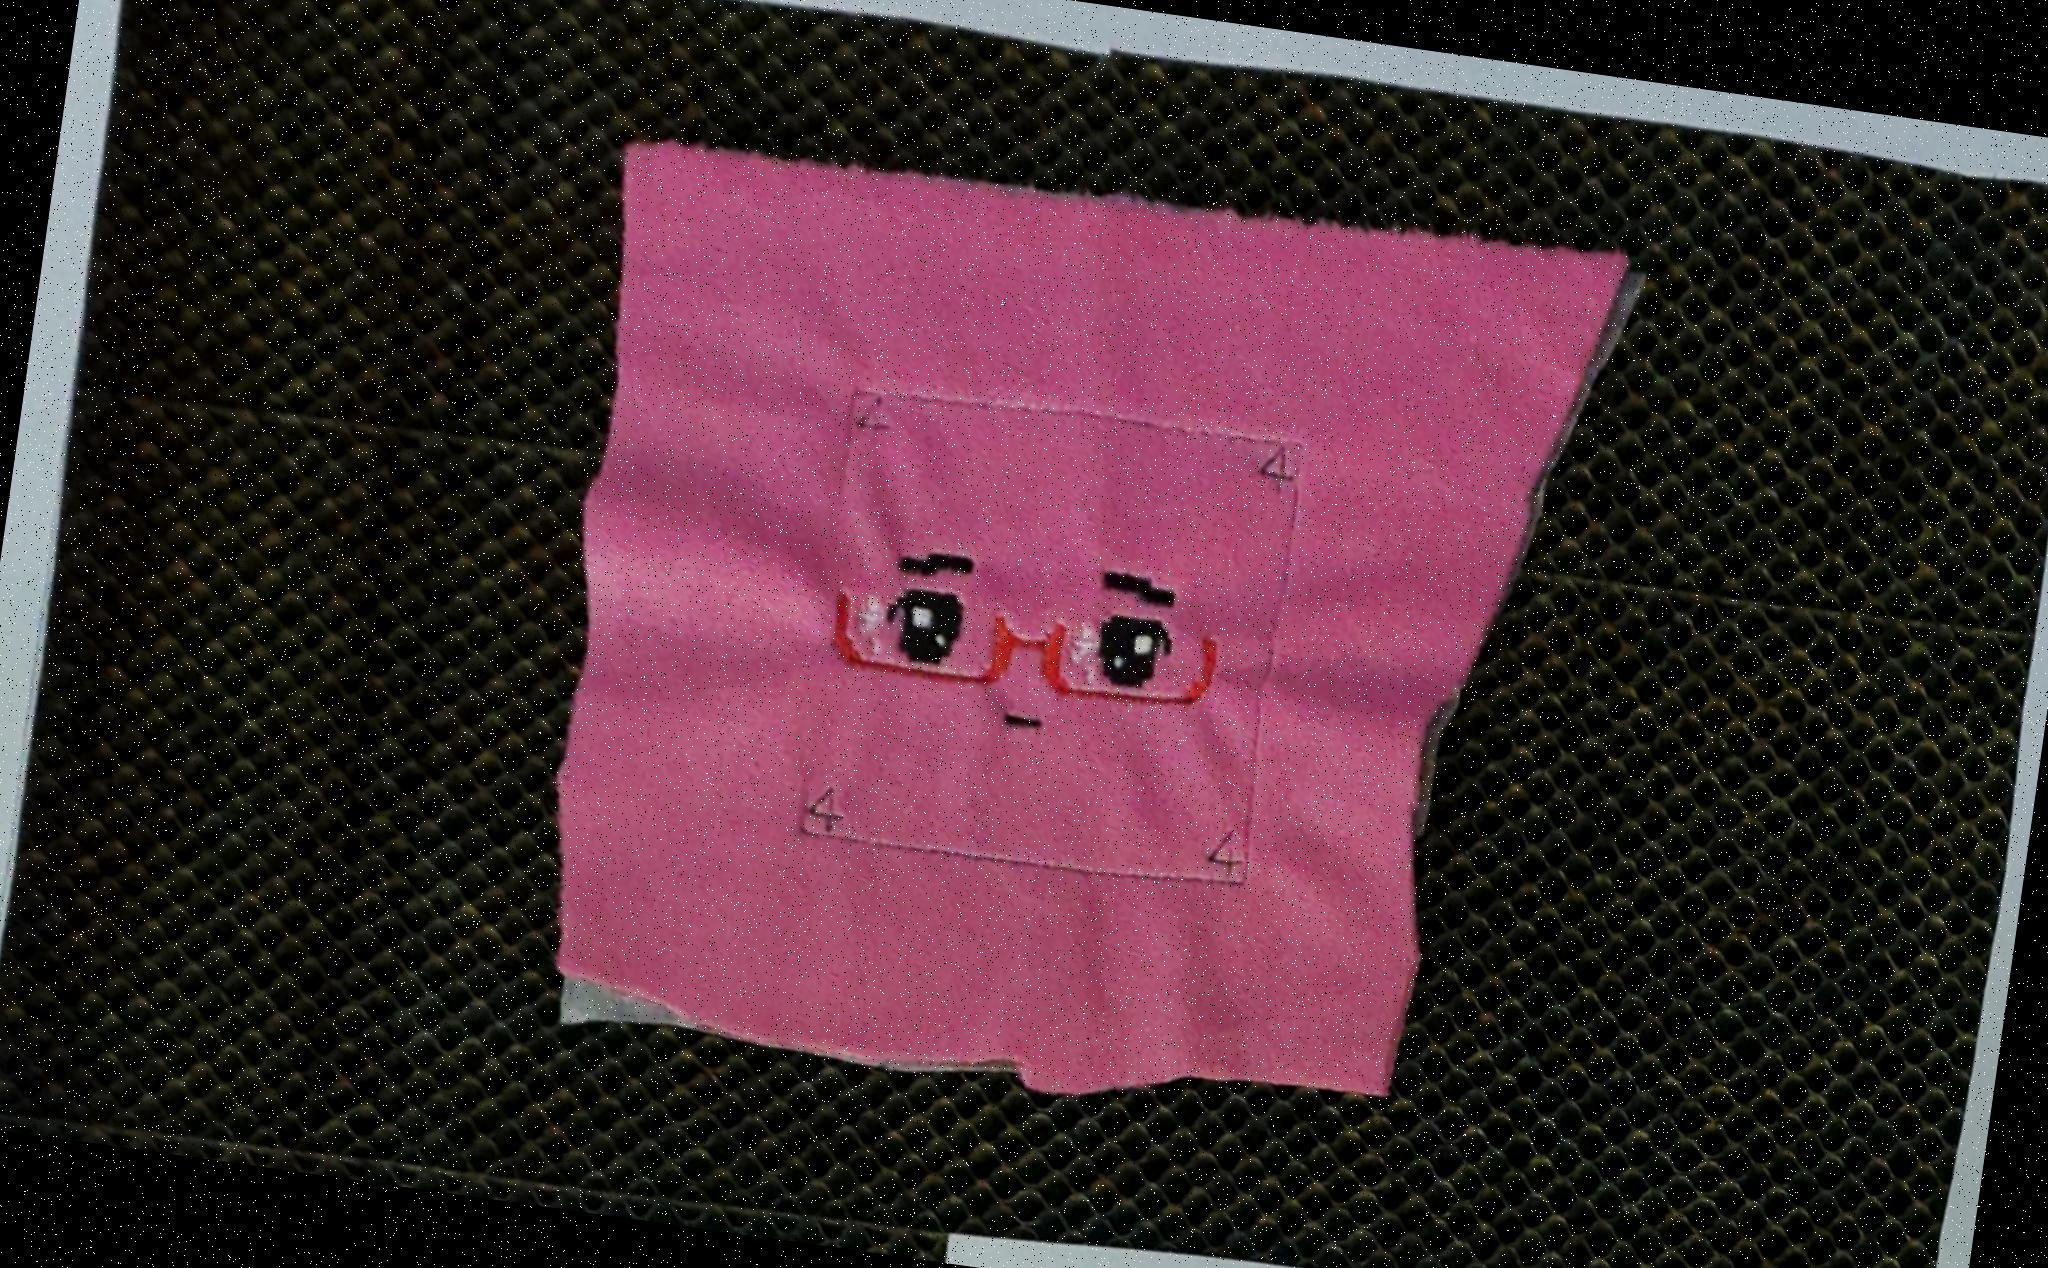objects: (449, 85, 1694, 1190)
